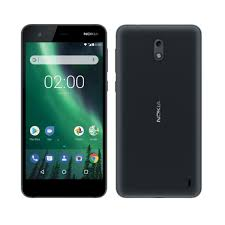nokia: (112, 21, 204, 199), (17, 19, 109, 197)
